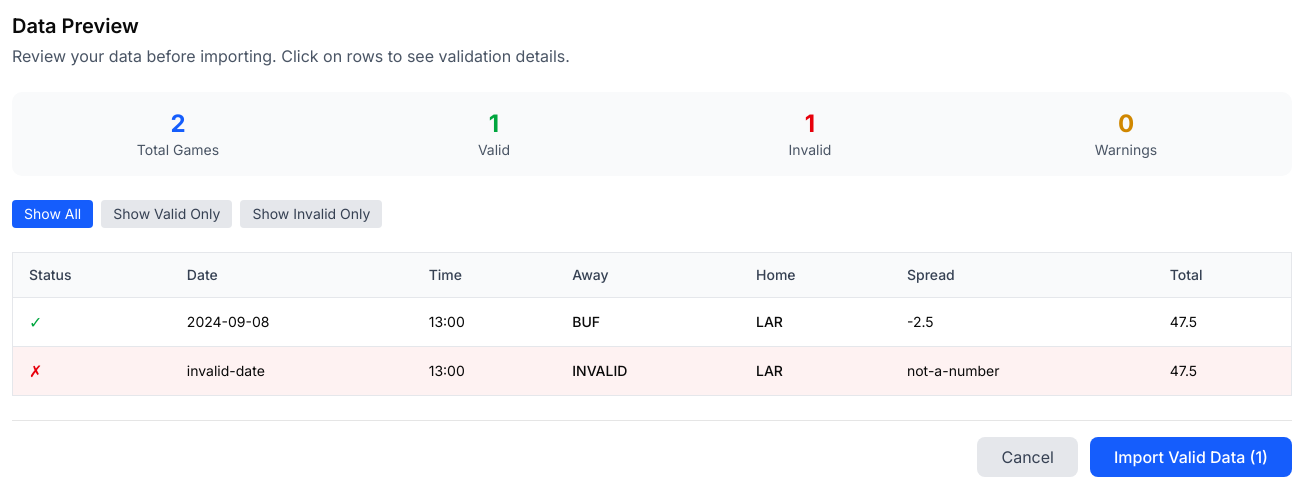
DataPreview › should filter to show only invalid games
The image size is (1304, 494).
Click the button "Show Invalid Only" at (311, 214), box [240,200,382,228]
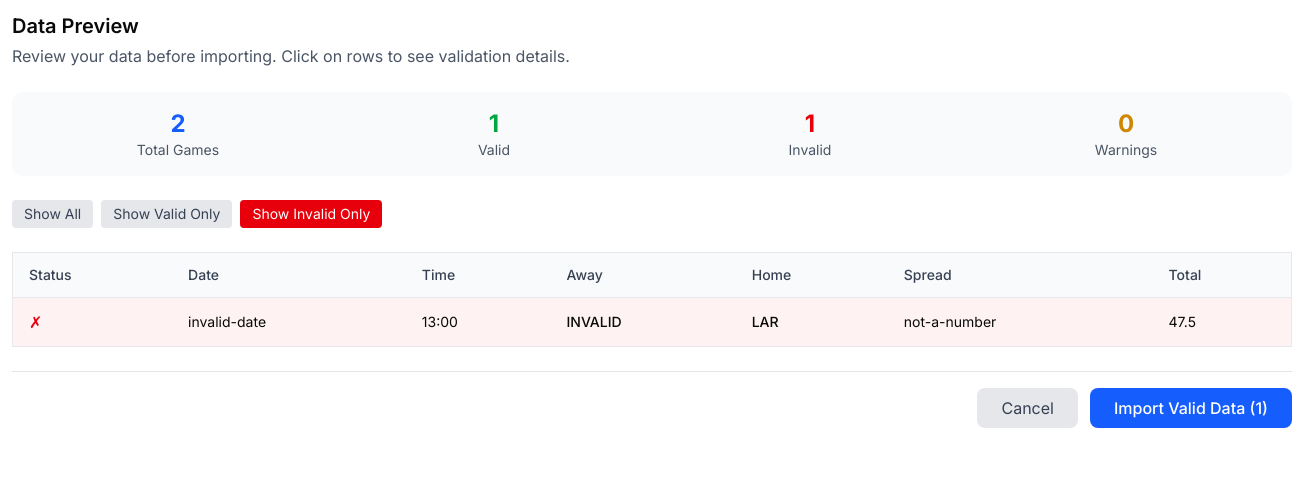
Expected: the text "INVALID" is shown, [550,298,736,346]
Expected: the text "BUF" is gone
